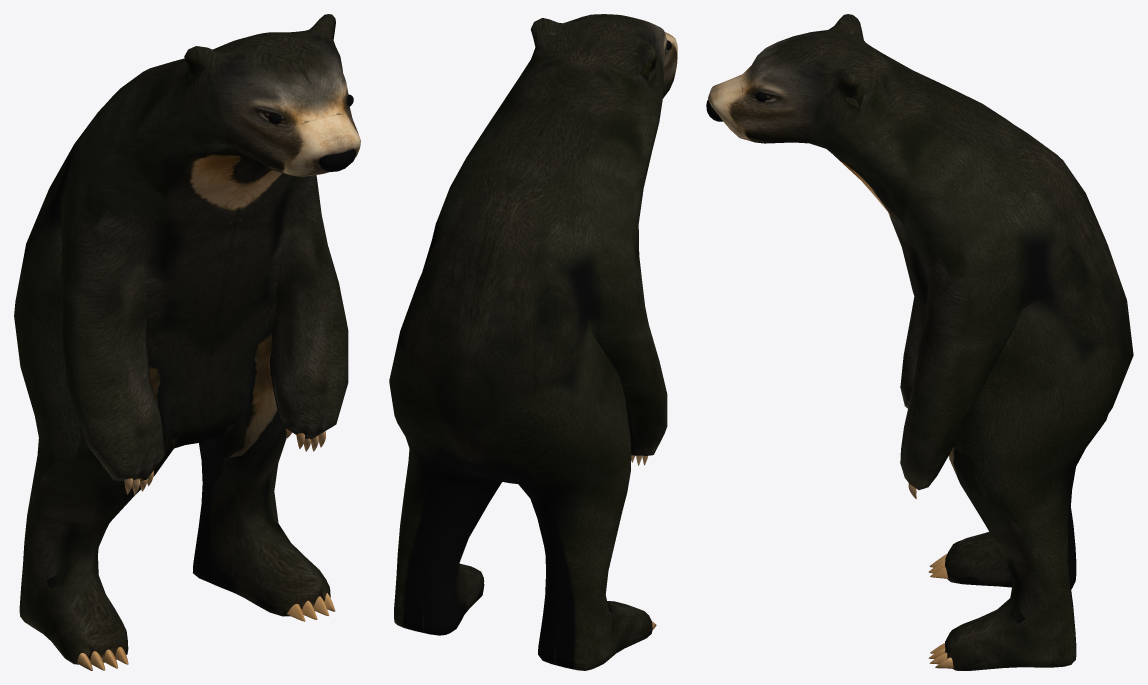
The model's file is Helarctor malayanus.fbx.
3 views of the same model, side by side, from view 1: azimuth 30°, elevation 25°; view 2: azimuth 150°, elevation 25°; view 3: azimuth 270°, elevation 25° (orthographic). The views are drawn at different scales.
Parts seen in each view (by area): view 1: Cube, Cube.037, Cube.003, Cube.002; view 2: Cube; view 3: Cube, Cube.037.
Part boxes in pixels (x1,y1,x2,y2): Cube: (14,14,360,664); Cube.037: (76,593,335,670); Cube.003: (124,428,325,495); Cube.002: (318,149,356,171); Cube: (389,14,677,670); Cube: (708,14,1133,670); Cube.037: (928,554,954,668).
Bounding box in the file's own units: 341 × 772 × 520.
